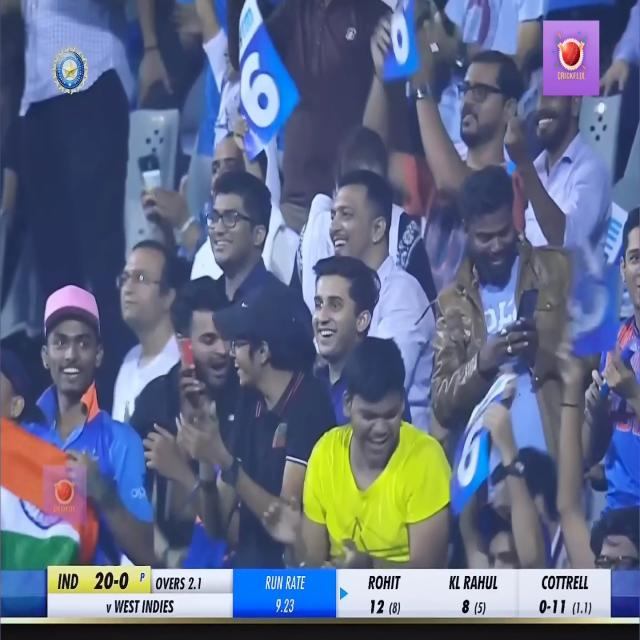partially_visible: (601, 193, 627, 280)
